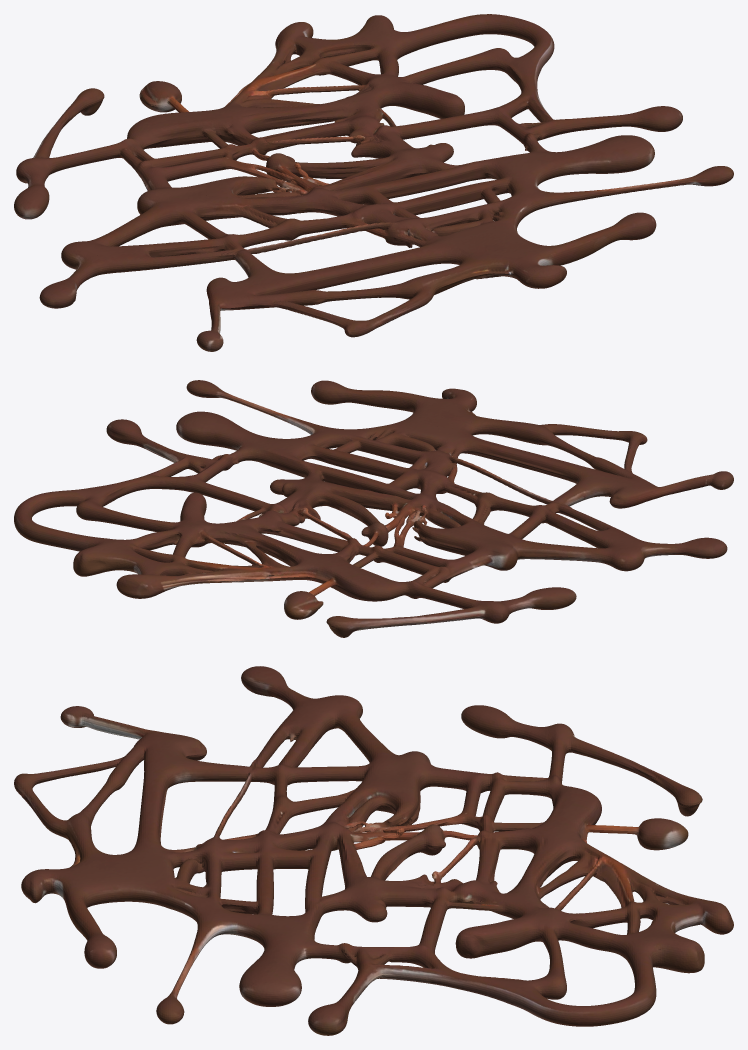
The model's file is topping_syrup.glb.
3 views of the same model, one above another, from view 1: azimuth 30°, elevation 25°; view 2: azimuth 150°, elevation 25°; view 3: azimuth 270°, elevation 25° (orthographic). The views are drawn at different scales.
Parts seen in each view (by area): view 1: tripo_node_d56ab286-d426-469a-b703-4c7ada795987; view 2: tripo_node_d56ab286-d426-469a-b703-4c7ada795987; view 3: tripo_node_d56ab286-d426-469a-b703-4c7ada795987.
Boxes of the visible parts, x1,y1,x2,y2 form: tripo_node_d56ab286-d426-469a-b703-4c7ada795987: [14, 14, 733, 351]; tripo_node_d56ab286-d426-469a-b703-4c7ada795987: [14, 380, 733, 637]; tripo_node_d56ab286-d426-469a-b703-4c7ada795987: [14, 666, 733, 1035].
Bounding box in the file's own units: 1 × 0.04 × 0.8433.
Materials: 1 (1 with a texture image).
